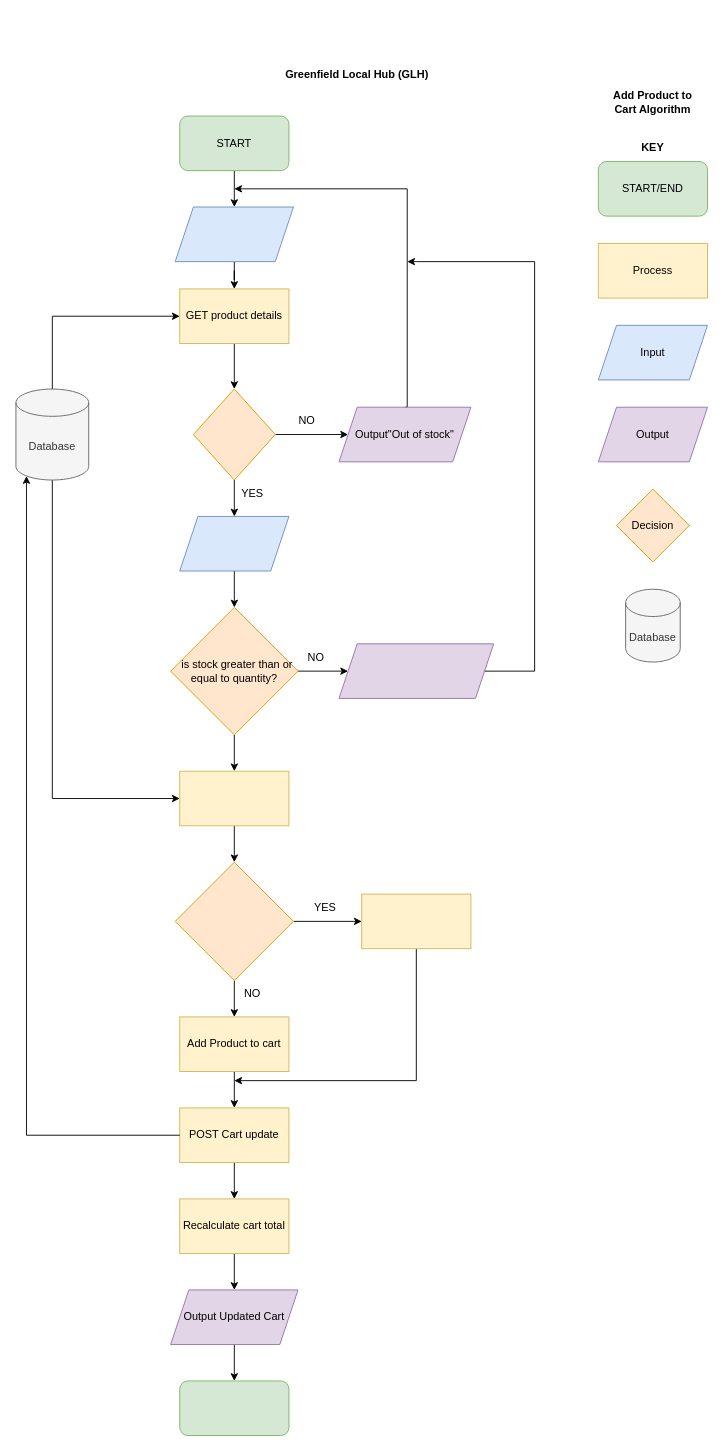
This 723x1451 diagram has some shape labels left out. Each missing label, with the box of its shape:
END: (179, 1380, 289, 1436)
GET existing cart: (179, 770, 289, 826)
Input user product selection: (174, 206, 293, 262)
Input user quantity selection.: (179, 516, 289, 571)
Is product already in cart?: (174, 861, 293, 981)
Is Product available?: (192, 388, 275, 480)
Output "Not enough stock": (338, 643, 494, 698)
Update Quantity: (361, 893, 471, 949)
